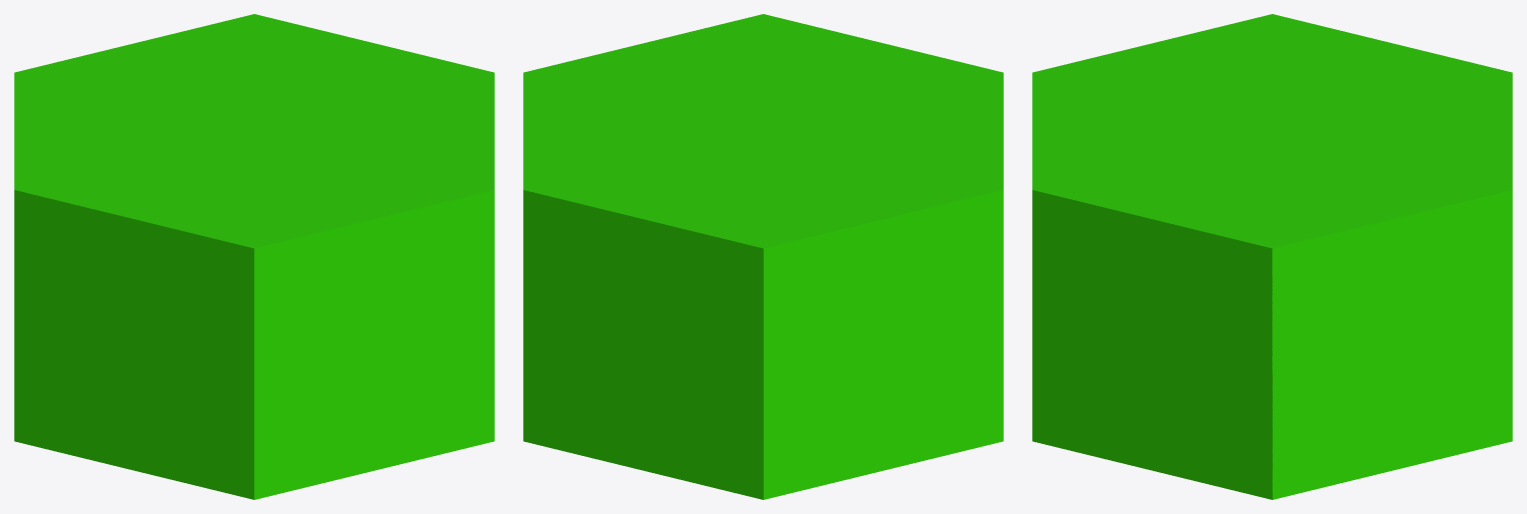
File: Item2.dae
3 views of the same model, side by side, from view 1: azimuth 30°, elevation 25°; view 2: azimuth 150°, elevation 25°; view 3: azimuth 270°, elevation 25° (orthographic).
Visible parts, largest first — view 1: ID11, ID19; view 2: ID11, ID19; view 3: ID11, ID19.
Boxes of the visible parts, bbox=[...] form: ID11: bbox=[14, 190, 494, 499]; ID19: bbox=[14, 14, 494, 248]; ID11: bbox=[523, 190, 1003, 499]; ID19: bbox=[523, 14, 1003, 248]; ID11: bbox=[1032, 190, 1512, 499]; ID19: bbox=[1032, 14, 1512, 248].
Size of the model in its own units: 0.25 by 0.125 by 0.2165.
